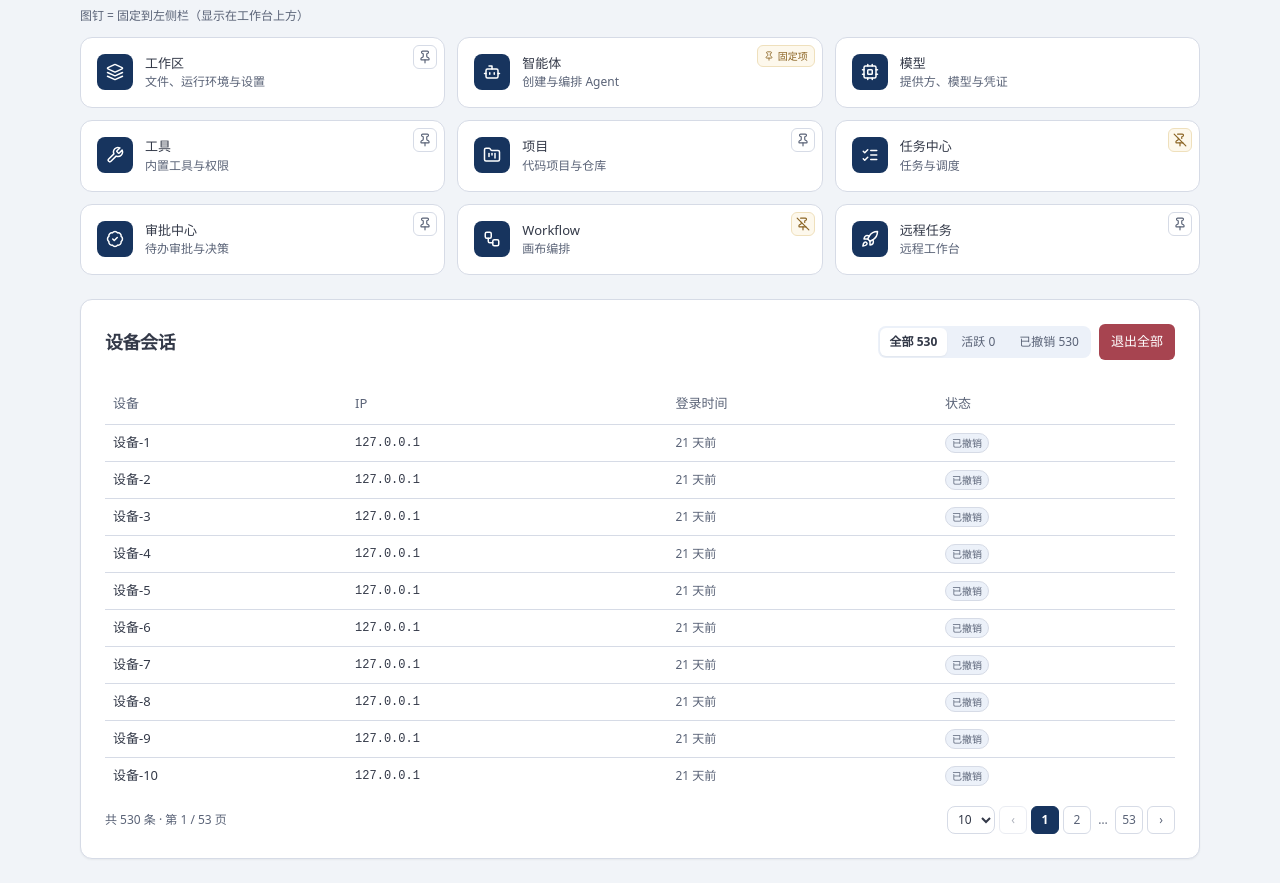
User（工作台） › 页码窗口化：53 页只渲染 ≤9 个数字位 + ellipsis（不撑破版式）
This screenshot has width=1280, height=883.
(page scrolled)
Expected: the text with test id "devices-page-summary" reads "共 530 条 · 第 1 / 53 页", [105,810,227,828]
Expected: the button with test id "devices-page-1" is shown, [1031,806,1059,834]
# 翻到中间页与末页：窗口始终含首 / 当前 / 末页。
Click the button "›" at (1161, 820), box [1147,806,1175,834]
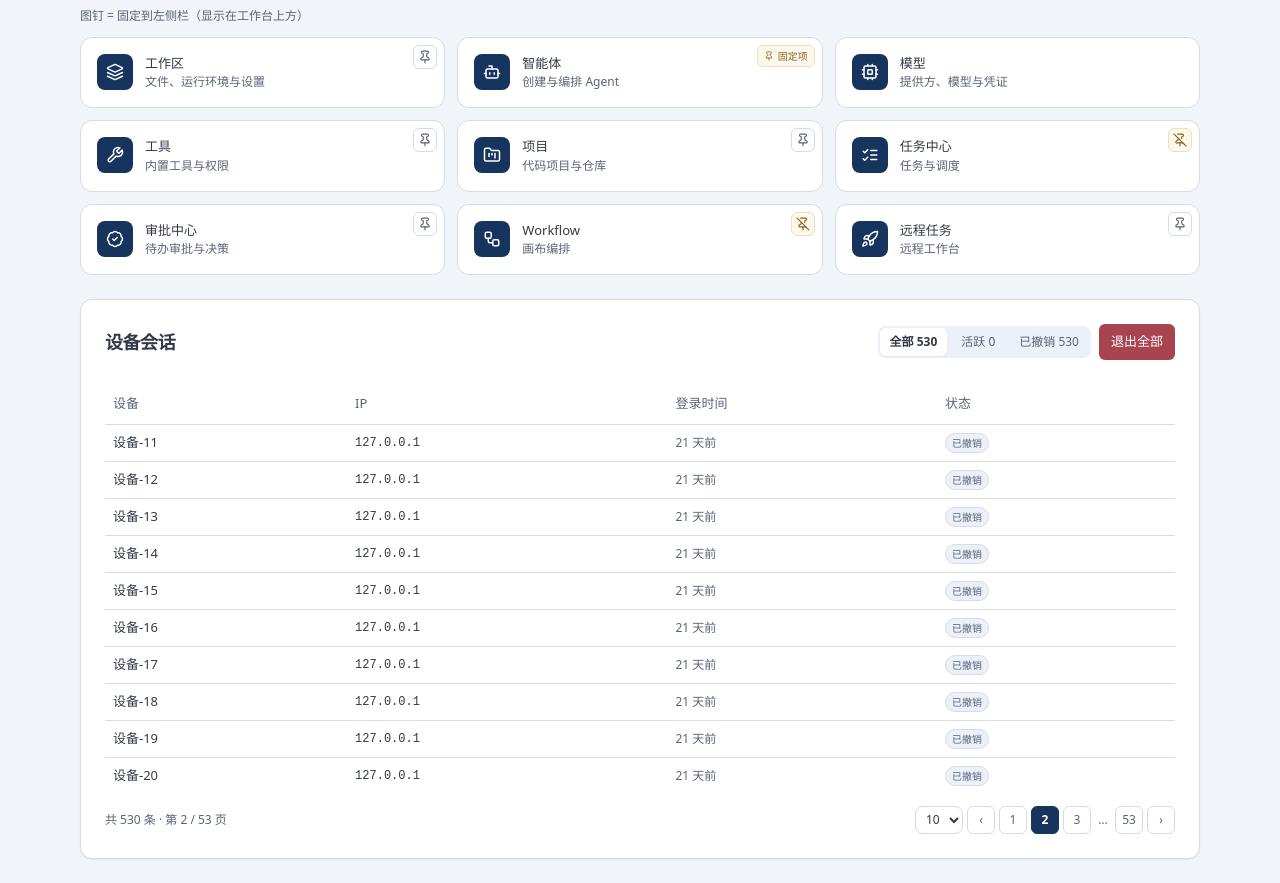
Now the text with test id "devices-page-summary" shows "第 2 / 53 页", box [105,810,227,828]
Click the button with test id "devices-page-53" at (1129, 820), box [1115,806,1143,834]
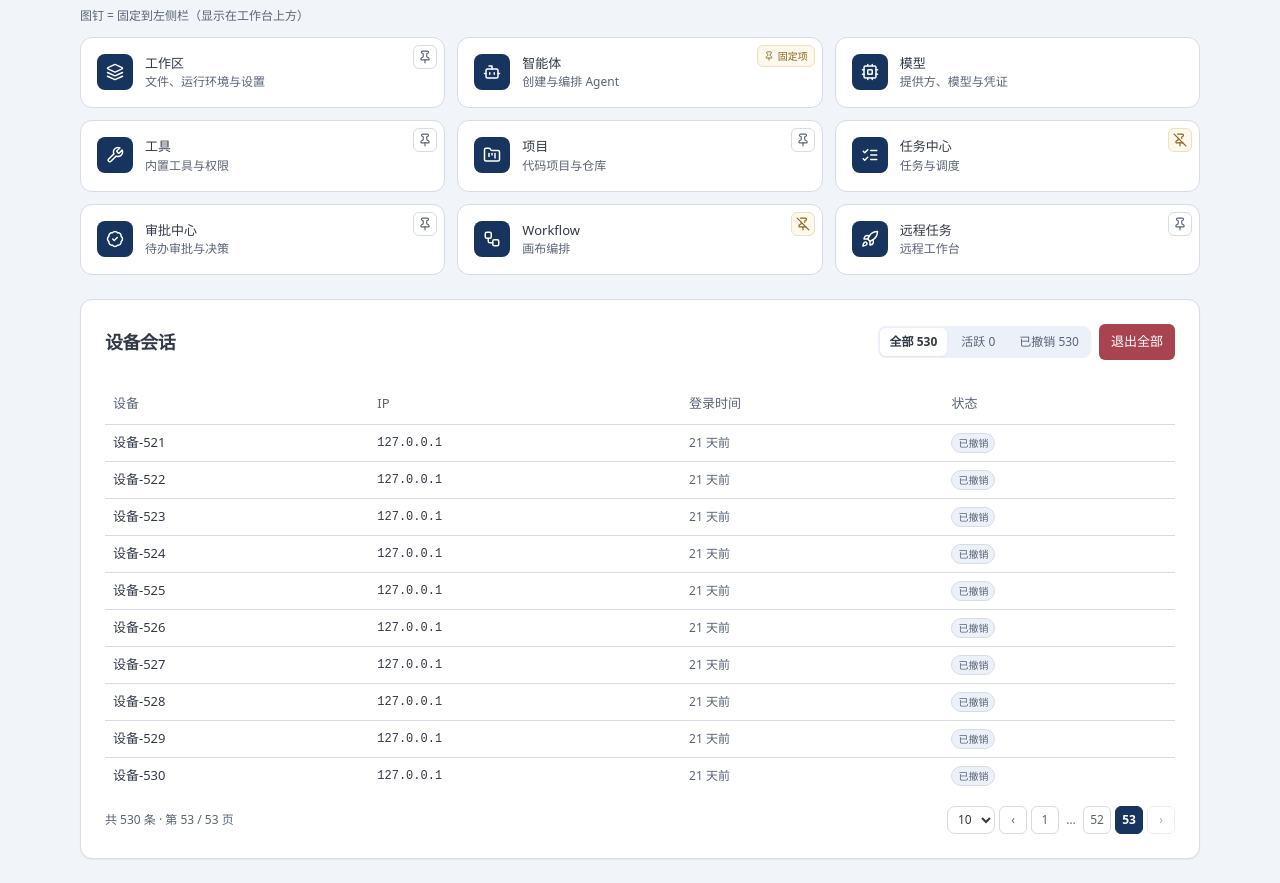
Expected: the button with test id "devices-page-1" is shown, [1031,806,1059,834]
Now the text with test id "devices-page-summary" shows "第 53 / 53 页", box [105,810,234,828]
